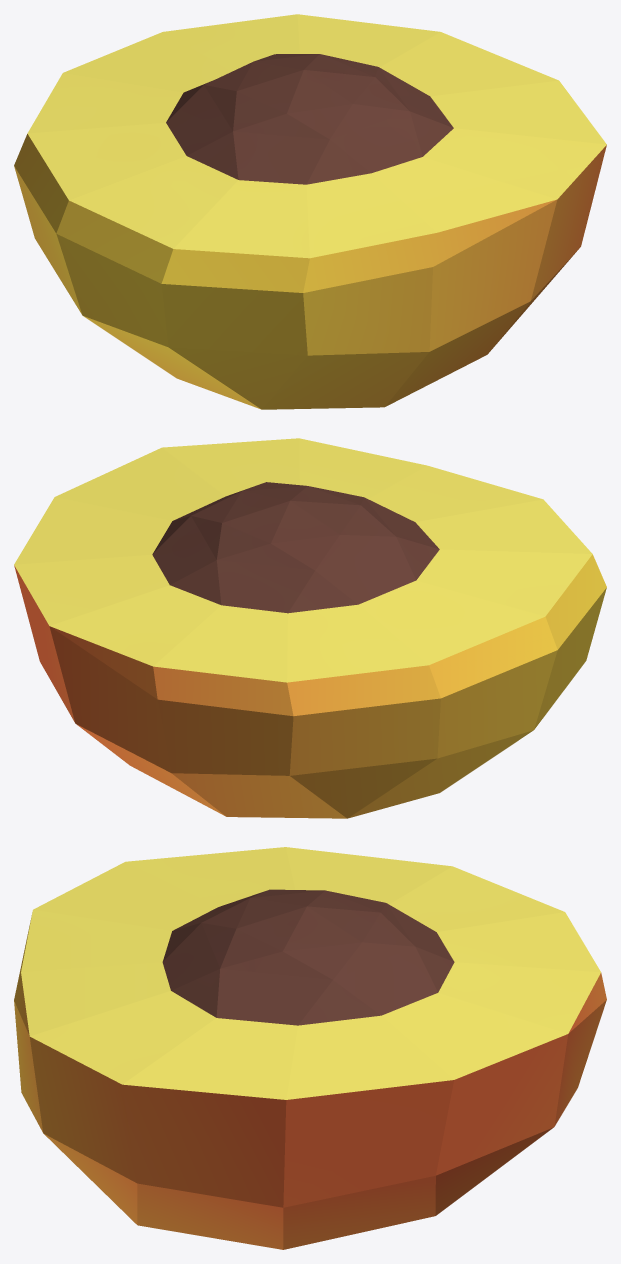
Rendered from peach_001.glb.
3 renders of one model, top to bottom at view 1: azimuth 30°, elevation 25°; view 2: azimuth 150°, elevation 25°; view 3: azimuth 270°, elevation 25°, orthographic. The views are drawn at different scales.
Visible parts, largest first — view 1: peach_001; view 2: peach_001; view 3: peach_001.
Part boxes in pixels (<box>): peach_001: <box>14,14,606,409</box>; peach_001: <box>14,438,606,818</box>; peach_001: <box>14,847,606,1249</box>.
Size of the model in its own units: 0.0887 by 0.0501 by 0.0857.
Materials: 1 (1 with a texture image).
